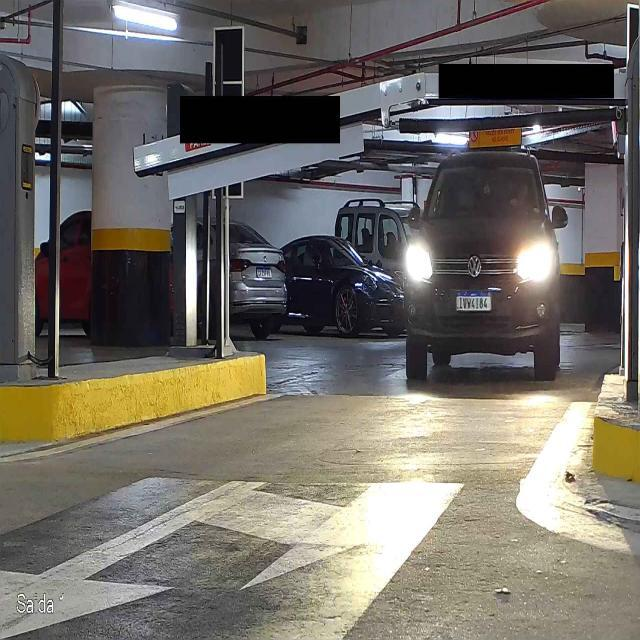mercosul_plate: (454, 288, 494, 312)
